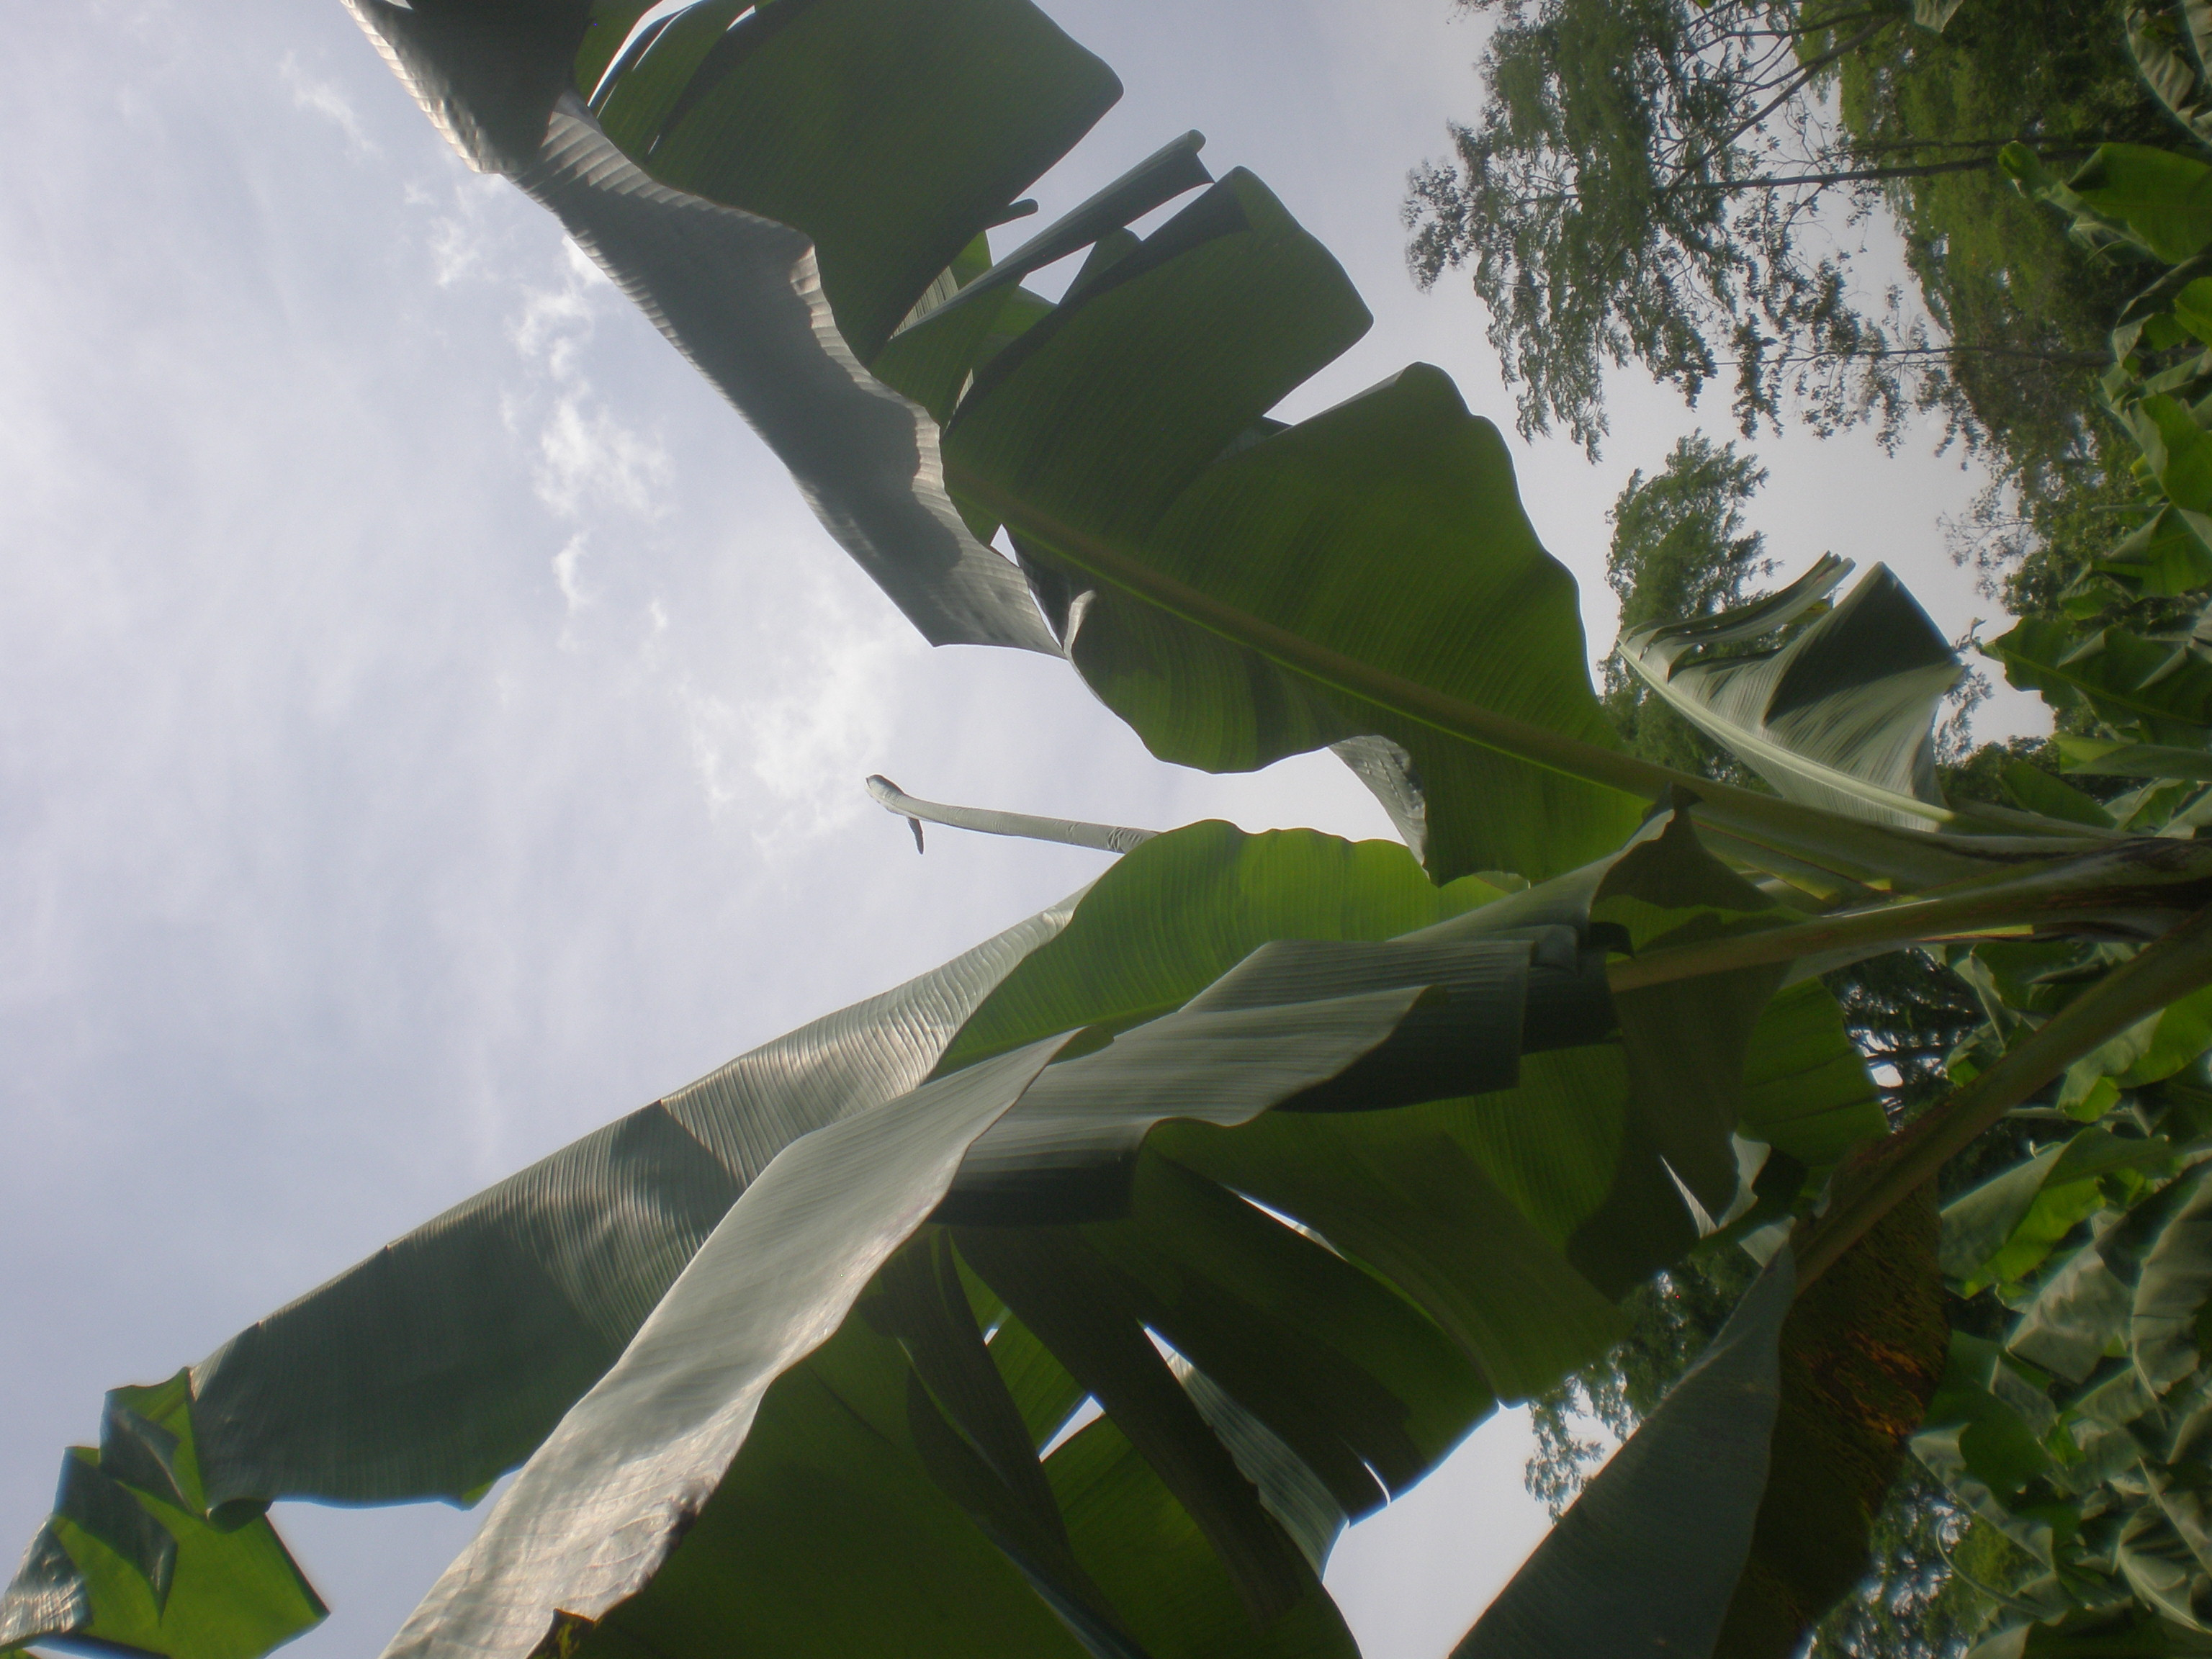candleleafs: (864, 772, 1155, 856)
